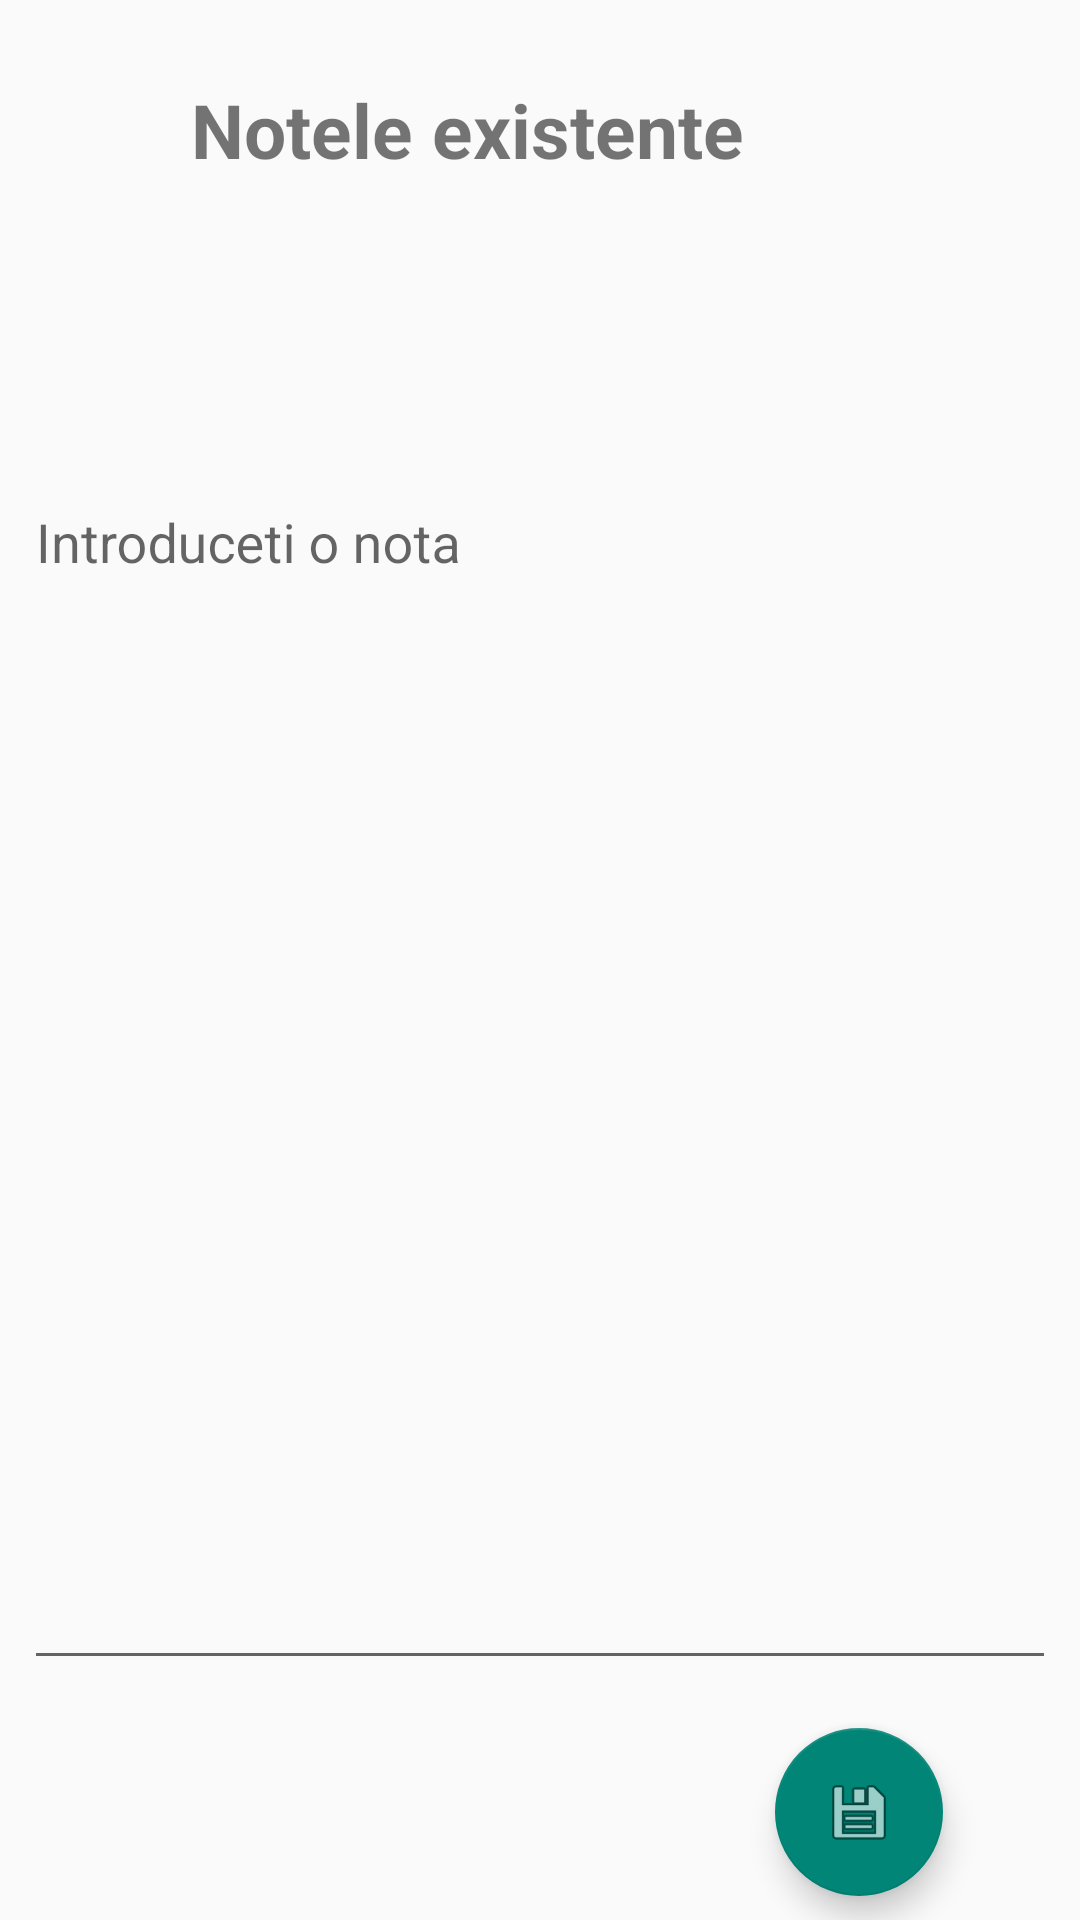

Named icons in this screenshot (1080px x 1920px) and their bounding boxes, (x1, y1, x2, y2):
save: (775, 1728, 943, 1896)
